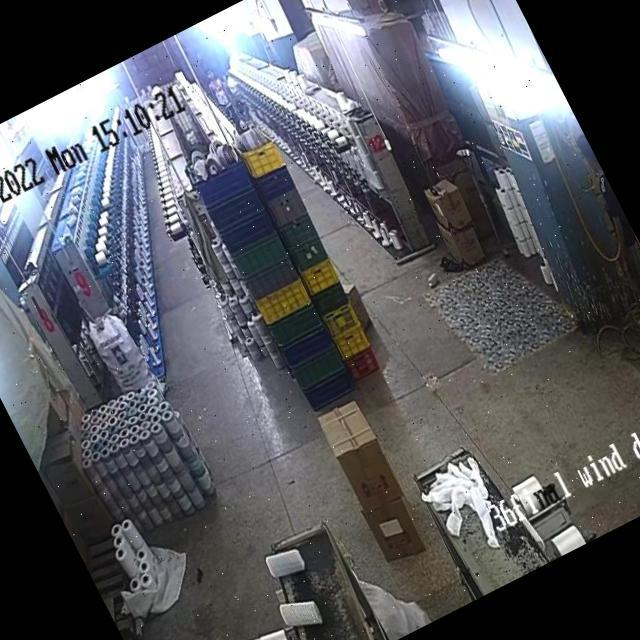person: (201, 66, 237, 121), (236, 92, 264, 130), (229, 94, 254, 125)
